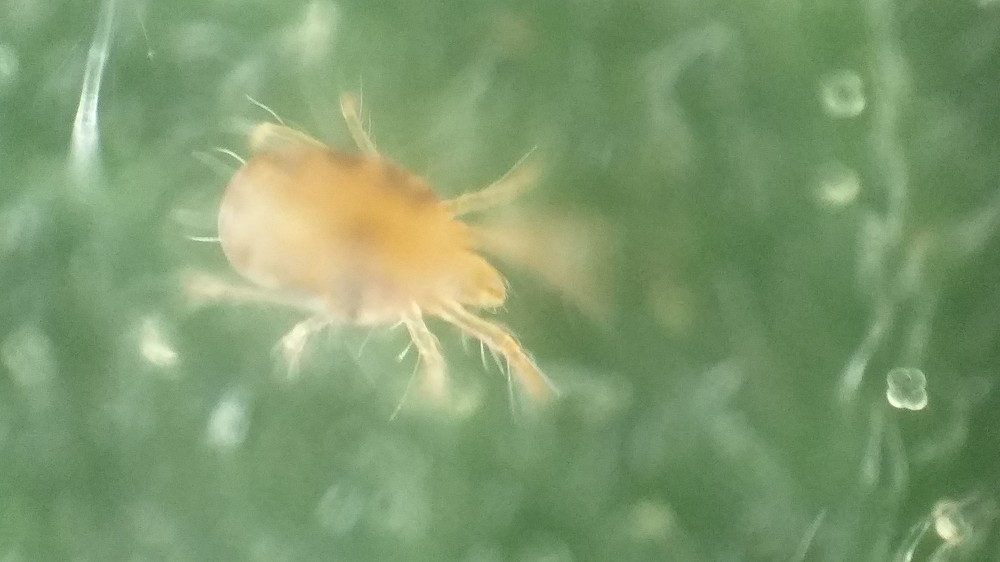Aracnido Rojo: (169, 97, 613, 414)
